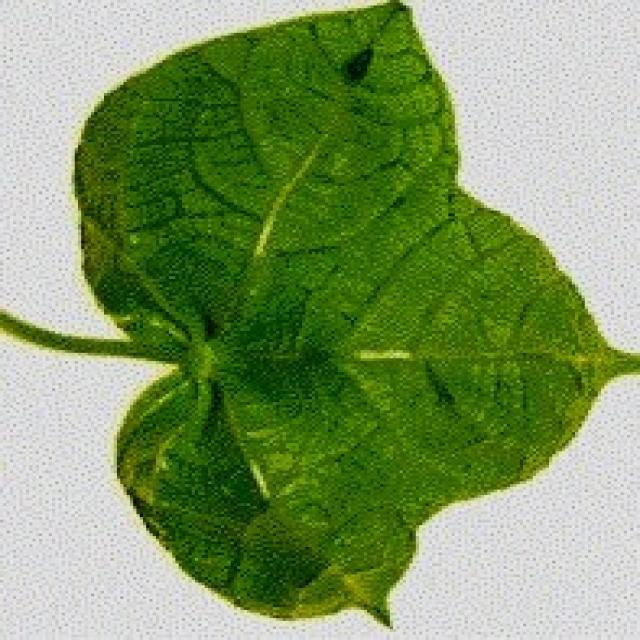Leaf Curl Virus: (134, 123, 476, 537)
